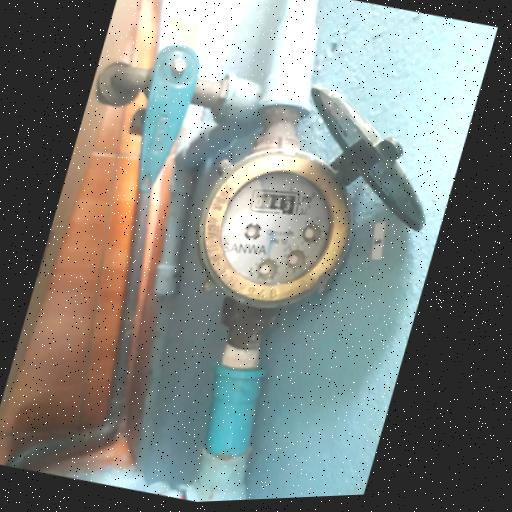0: (252, 191, 267, 210)
3: (279, 193, 298, 217), (261, 193, 276, 211)
4: (270, 192, 287, 212)
border_water_meter_number: (246, 181, 304, 223)
